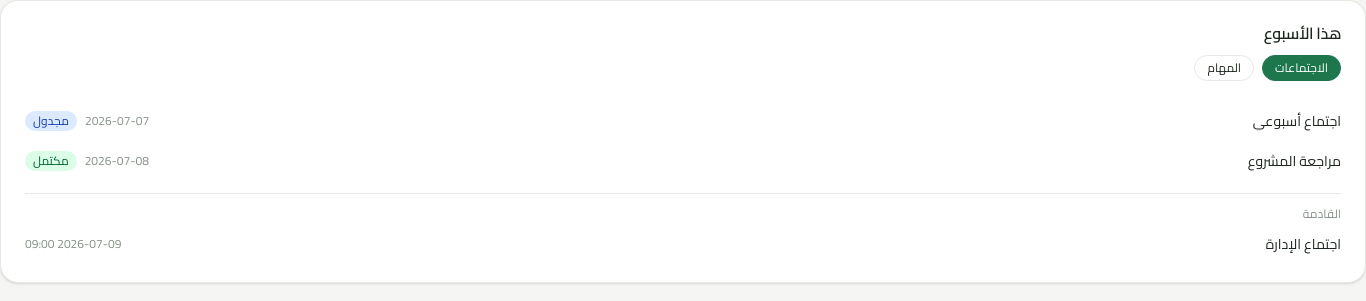
Test case: ThisWeekWidget › switches to tasks tab on click and shows task titles
Click the button "المهام": {"x": 1224, "y": 68} [1194,55,1254,81]
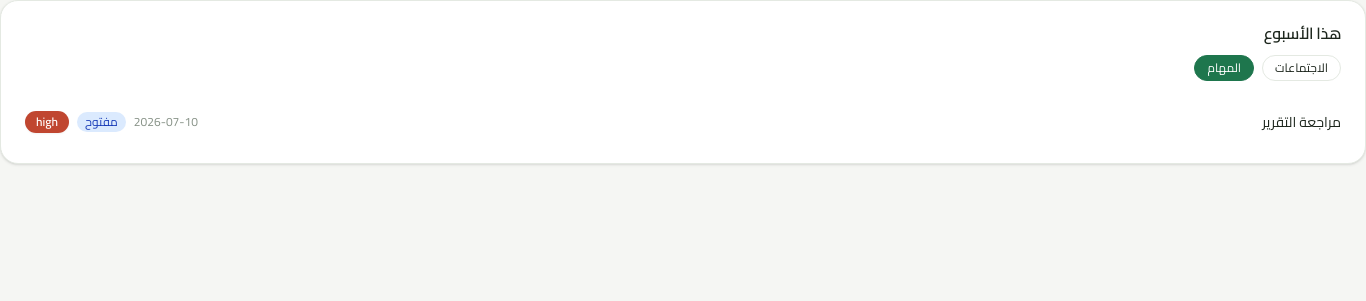
Expected: the text "مراجعة التقرير" is shown, [1262,109,1341,135]
